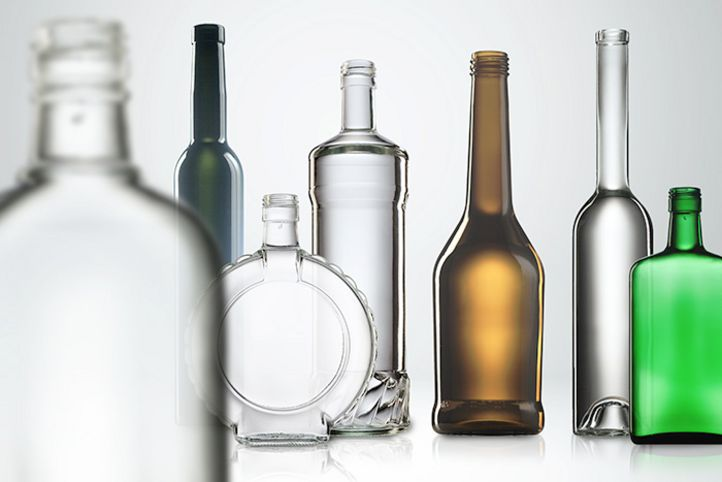glass_bottle: (428, 44, 551, 443)
